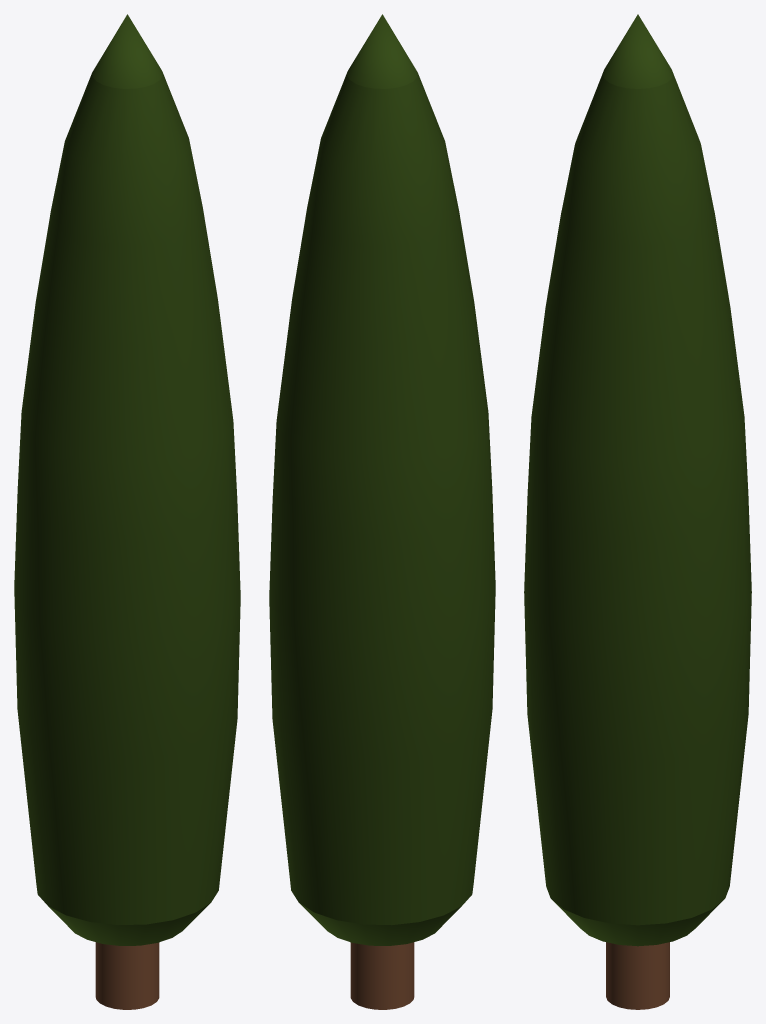
File: ArbreText.fbx
3 renders of one model, left to right at view 1: azimuth 30°, elevation 25°; view 2: azimuth 150°, elevation 25°; view 3: azimuth 270°, elevation 25°, orthographic.
Visible parts, largest first — view 1: pCylinder2, pCylinder1; view 2: pCylinder2, pCylinder1; view 3: pCylinder2, pCylinder1.
Part boxes in pixels (left/top/right/bottom): pCylinder2: left=14, top=14, right=240, bottom=945; pCylinder1: left=95, top=942, right=159, bottom=1009; pCylinder2: left=269, top=14, right=495, bottom=945; pCylinder1: left=350, top=942, right=414, bottom=1009; pCylinder2: left=524, top=14, right=751, bottom=946; pCylinder1: left=606, top=942, right=669, bottom=1009.
Size of the model in its own units: 258 by 1226 by 258.
